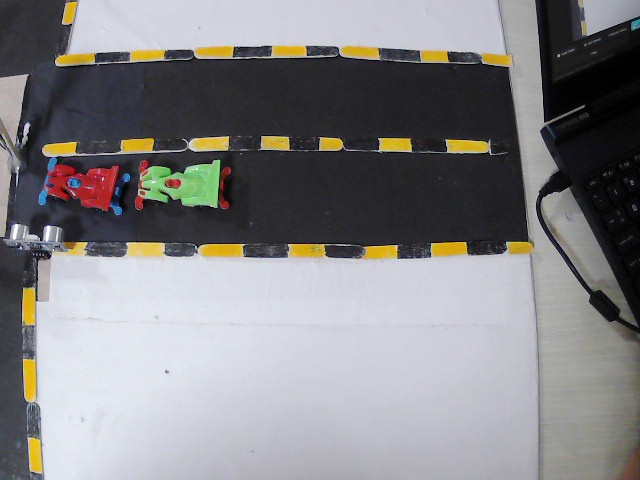black_strip: (84, 240, 126, 260), (231, 135, 266, 155), (243, 244, 289, 259), (20, 256, 40, 289), (155, 138, 191, 154), (291, 136, 323, 154), (26, 403, 42, 439), (76, 141, 120, 154), (466, 240, 504, 255), (324, 242, 362, 257), (20, 326, 37, 359), (382, 47, 419, 62), (411, 137, 445, 153), (343, 137, 379, 152), (163, 242, 198, 256), (164, 46, 196, 61), (235, 43, 271, 56), (451, 50, 481, 65), (55, 24, 71, 52), (396, 244, 429, 257), (309, 44, 337, 58), (94, 51, 128, 62), (488, 138, 510, 152), (31, 474, 40, 480)
car: (40, 159, 131, 219), (138, 159, 235, 211)
mixed_lane: (53, 42, 511, 71), (40, 133, 508, 160), (63, 237, 535, 261), (19, 252, 46, 477), (55, 0, 80, 59)
uno_breadboard: (3, 221, 68, 256)
yellow_strip: (20, 289, 37, 327), (340, 45, 380, 60), (191, 137, 231, 152), (201, 243, 243, 257), (22, 360, 37, 399), (197, 45, 236, 60), (288, 242, 325, 257), (362, 246, 398, 261), (121, 137, 155, 152), (446, 140, 488, 152), (127, 244, 163, 258), (429, 242, 467, 255), (271, 43, 308, 56), (262, 136, 291, 152), (28, 439, 42, 472), (55, 53, 95, 64), (130, 48, 163, 61), (43, 144, 76, 157), (380, 138, 412, 151), (506, 240, 533, 254), (483, 53, 509, 67), (61, 2, 77, 24), (421, 51, 449, 63), (65, 241, 84, 255), (322, 138, 343, 150)
